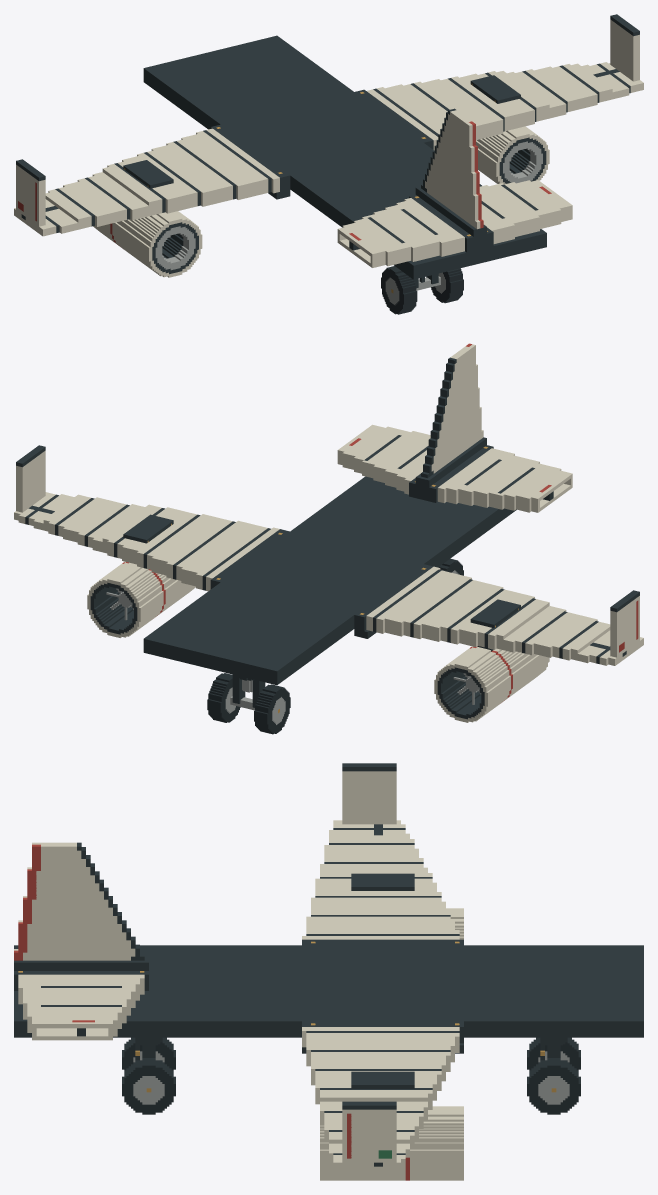
3 views of the same model, one above another, from view 1: azimuth 30°, elevation 25°; view 2: azimuth 150°, elevation 25°; view 3: azimuth 270°, elevation 25° (orthographic). The views are drawn at different scales.
Visible parts, largest first — view 1: 明确4m宽机身钢安装梁框，非完整飞机（辅助）, 公共客机机翼与翼端组件 (×2), 公共客机水平及垂直尾翼组件 (×2), 公共客机发动机/推力体组件 (×2), 公共客机起落架与轮组; view 2: 明确4m宽机身钢安装梁框，非完整飞机（辅助）, 公共客机机翼与翼端组件 (×2), 公共客机水平及垂直尾翼组件 (×2), 公共客机发动机/推力体组件 (×2), 公共客机起落架与轮组; view 3: 明确4m宽机身钢安装梁框，非完整飞机（辅助）, 公共客机机翼与翼端组件 (×2), 公共客机水平及垂直尾翼组件 (×2), 公共客机起落架与轮组 (×2), 公共客机发动机/推力体组件 (×2).
Boxes of the visible parts, left/top/right/bottom form: 明确4m宽机身钢安装梁框，非完整飞机（辅助）: left=143, top=35, right=546, bottom=279; 公共客机机翼与翼端组件 (×2): left=14, top=14, right=643, bottom=236; 公共客机水平及垂直尾翼组件 (×2): left=337, top=108, right=572, bottom=267; 公共客机发动机/推力体组件 (×2): left=93, top=75, right=549, bottom=277; 公共客机起落架与轮组: left=381, top=266, right=463, bottom=314; 明确4m宽机身钢安装梁框，非完整飞机（辅助）: left=143, top=476, right=516, bottom=684; 公共客机机翼与翼端组件 (×2): left=14, top=445, right=643, bottom=665; 公共客机水平及垂直尾翼组件 (×2): left=337, top=343, right=572, bottom=512; 公共客机发动机/推力体组件 (×2): left=87, top=514, right=549, bottom=722; 公共客机起落架与轮组: left=207, top=673, right=290, bottom=734; 明确4m宽机身钢安装梁框，非完整飞机（辅助）: left=14, top=945, right=643, bottom=1053; 公共客机机翼与翼端组件 (×2): left=302, top=763, right=463, bottom=1170; 公共客机水平及垂直尾翼组件 (×2): left=14, top=842, right=148, bottom=1040; 公共客机起落架与轮组 (×2): left=122, top=1037, right=580, bottom=1114; 公共客机发动机/推力体组件 (×2): left=320, top=873, right=463, bottom=1180.
Bounding box in the file's own units: 18 × 6.2 × 14.
Materials: 9 (9 with a texture image).
